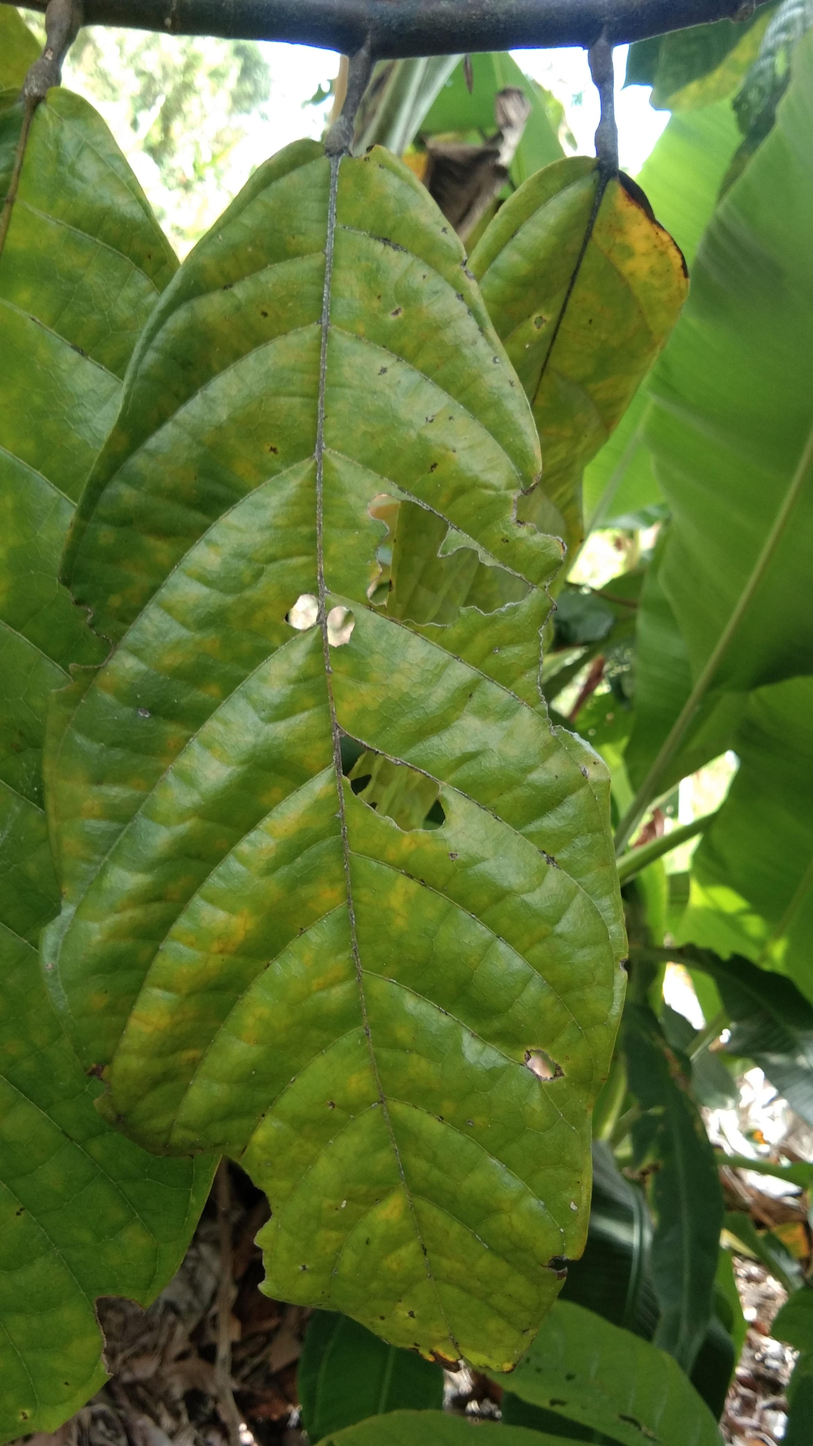deficiencia_potasio: (45, 117, 678, 1427)
